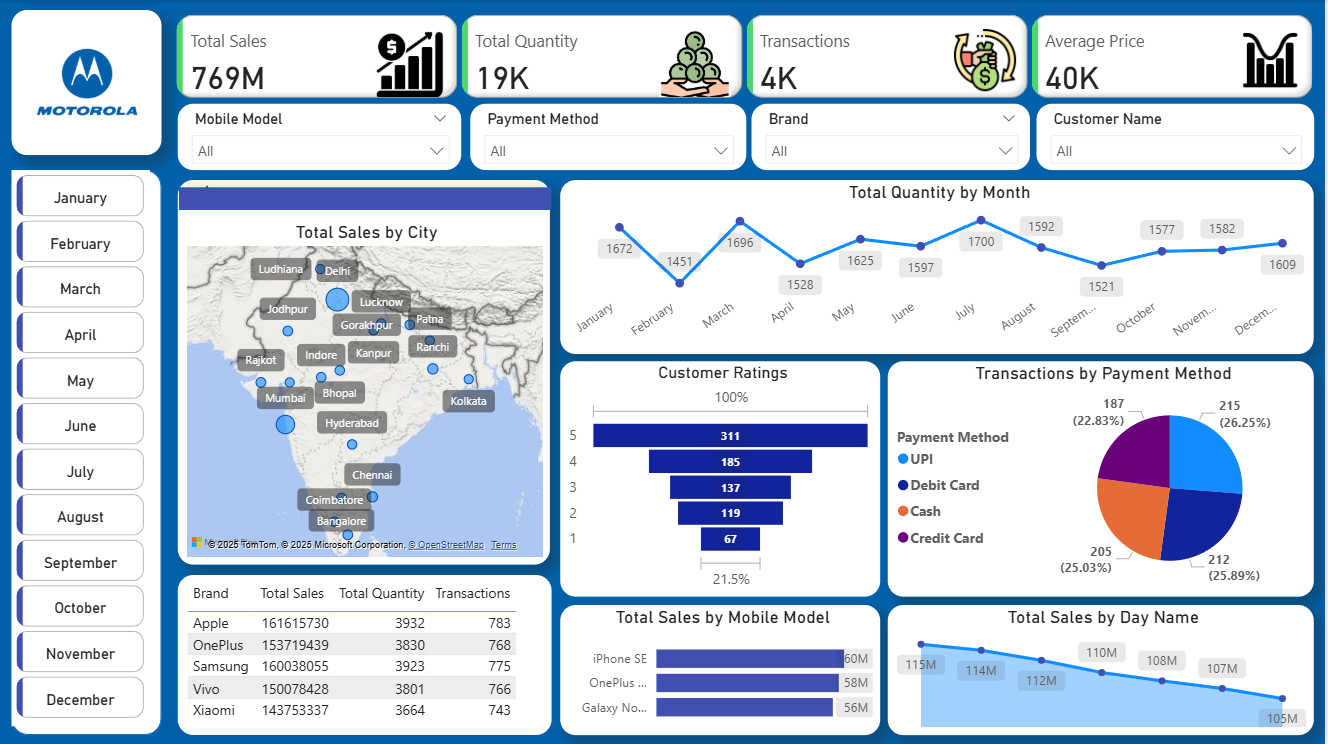

Layout of this report page (visuals, bound fields, positions):
{"tool":"powerbi","page":{"name":"Page 1","canvas":[1280,720],"ordinal":0},"visuals":[{"type":"image","box":[12.1,9.7,144.8,139.9],"z":0},{"type":"shape","box":[12.1,164.1,144.8,545.3],"z":1000},{"type":"cardVisual","fields":{"Data":["Sales_Data.Total Sales","Sales_Data.Total Quantity","Sales_Data.Transactions","Sales_Data.Average Price"]},"box":[166.5,9.7,1107.5,90.5],"z":2000},{"type":"map","fields":{"Category":["Sales_Data.City"],"Size":["Sales_Data.Total Sales"]},"box":[172.5,173.7,359.5,371.6],"z":3000},{"type":"shape","box":[173.7,181,359.5,21.7],"z":4000},{"type":"lineChart","fields":{"Y":["Sales_Data.Total Quantity"],"Category":["Sales_Data.Date.Variation.Date Hierarchy.Month","Sales_Data.Date.Variation.Date Hierarchy.Day"]},"box":[541.7,173.7,727.5,167.7],"z":5000},{"type":"advancedSlicerVisual","fields":{"Values":["Sales_Data.Date.Variation.Date Hierarchy.Month"]},"box":[12.1,164.1,133.9,536.9],"z":6000},{"type":"clusteredBarChart","fields":{"Category":["Sales_Data.Mobile Model"],"Y":["Sales_Data.Total Sales"]},"box":[541.7,583.9,308.8,125.5],"z":7000},{"type":"pieChart","fields":{"Category":["Sales_Data.Payment Method"],"Y":["Sales_Data.Transactions"]},"box":[857.8,348.7,411.4,226.8],"z":8000},{"type":"funnel","title":"Customer Ratings","fields":{"Category":["Sales_Data.Customer Ratings"],"Y":["CountNonNull(Sales_Data.Customer Ratings)"]},"box":[541.7,348.7,308.8,226.8],"z":9000},{"type":"areaChart","fields":{"Category":["Sales_Data.Day Name"],"Y":["Sales_Data.Total Sales"]},"box":[857.8,583.9,411.4,125.5],"z":9001},{"type":"tableEx","fields":{"Values":["Sales_Data.Brand","Sales_Data.Total Sales","Sales_Data.Total Quantity","Sales_Data.Transactions"]},"box":[172.5,555,360.7,154.4],"z":9002},{"type":"slicer","fields":{"Values":["Sales_Data.Mobile Model"]},"box":[172.5,100.1,273.9,63.9],"z":9003},{"type":"slicer","fields":{"Values":["Sales_Data.Payment Method"]},"box":[454.8,100.1,266,63.9],"z":9004},{"type":"slicer","fields":{"Values":["Sales_Data.Brand"]},"box":[726.3,100.1,269,63.9],"z":9005},{"type":"slicer","fields":{"Values":["Sales_Data.Customer Name"]},"box":[1001.3,100.1,267.8,63.9],"z":9006}]}

Visuals, with their boxes in screenshot pixels (x1, y1, x2, y2), scaled from the page's 1280x720 canvas onto the 1328x744 screenshot:
image: (left=13, top=10, right=163, bottom=155)
shape: (left=13, top=170, right=163, bottom=733)
cardVisual - Sales_Data.Total Sales x Sales_Data.Total Quantity: (left=173, top=10, right=1322, bottom=104)
map - Sales_Data.City x Sales_Data.Total Sales: (left=179, top=179, right=552, bottom=563)
shape: (left=180, top=187, right=553, bottom=209)
lineChart - Sales_Data.Total Quantity x Sales_Data.Date.Variation.Date Hierarchy.Month: (left=562, top=179, right=1317, bottom=353)
advancedSlicerVisual - Sales_Data.Date.Variation.Date Hierarchy.Month: (left=13, top=170, right=151, bottom=724)
clusteredBarChart - Sales_Data.Mobile Model x Sales_Data.Total Sales: (left=562, top=603, right=882, bottom=733)
pieChart - Sales_Data.Payment Method x Sales_Data.Transactions: (left=890, top=360, right=1317, bottom=595)
"Customer Ratings" funnel: (left=562, top=360, right=882, bottom=595)
areaChart - Sales_Data.Day Name x Sales_Data.Total Sales: (left=890, top=603, right=1317, bottom=733)
tableEx - Sales_Data.Brand x Sales_Data.Total Sales: (left=179, top=574, right=553, bottom=733)
slicer - Sales_Data.Mobile Model: (left=179, top=103, right=463, bottom=169)
slicer - Sales_Data.Payment Method: (left=472, top=103, right=748, bottom=169)
slicer - Sales_Data.Brand: (left=754, top=103, right=1033, bottom=169)
slicer - Sales_Data.Customer Name: (left=1039, top=103, right=1317, bottom=169)
